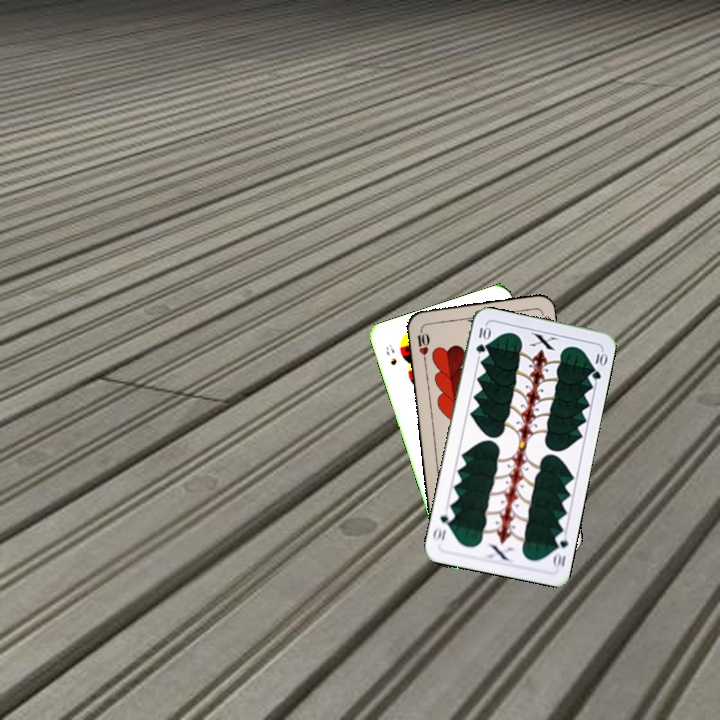G10: (549, 529, 571, 570), (472, 322, 492, 356)
H10: (413, 324, 432, 365)
S8: (382, 340, 400, 368)
